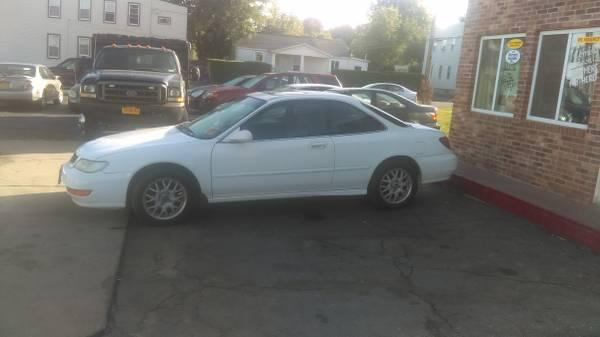acura: (53, 88, 456, 225)
